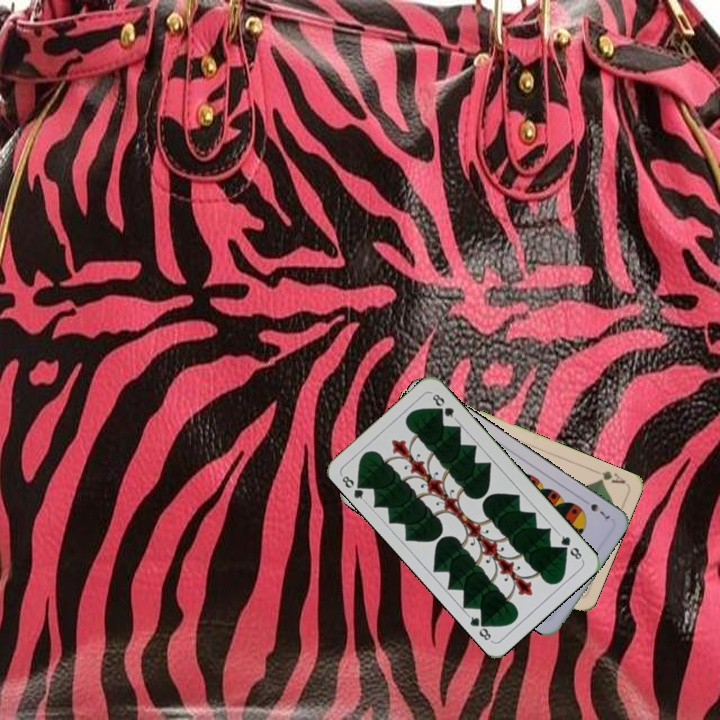G8: (337, 471, 369, 505), (554, 530, 585, 563)
GA: (594, 467, 628, 487)
S7: (578, 495, 612, 524)
